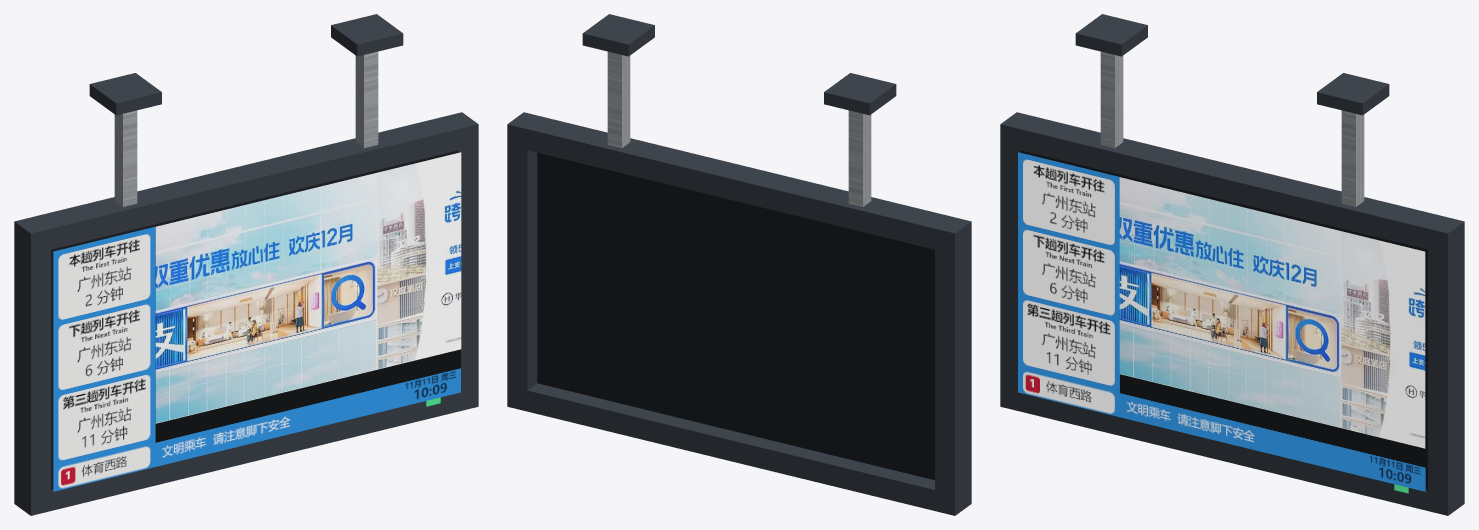
3 renders of one model, left to right at view 1: azimuth 30°, elevation 25°; view 2: azimuth 150°, elevation 25°; view 3: azimuth 330°, elevation 25°, orthographic.
Visible parts, largest first — view 1: tvContentWindow, tvDepartureBoard, darkSteel3, darkSteel4, darkSteel5, darkSteel6, steel, steel2, darkSteel2, darkSteel, black; view 2: black, darkSteel3, darkSteel4, darkSteel5, darkSteel6, steel, steel2, darkSteel2, darkSteel; view 3: tvContentWindow, tvDepartureBoard, darkSteel3, darkSteel4, darkSteel6, darkSteel5, steel2, steel, darkSteel, darkSteel2, black.
Boxes of the visible parts, x1,y1,x2,y2 form: tvContentWindow: [155, 152, 461, 423]; tvDepartureBoard: [53, 152, 460, 491]; darkSteel3: [14, 112, 478, 254]; darkSteel4: [14, 385, 478, 515]; darkSteel5: [14, 243, 50, 494]; darkSteel6: [458, 145, 478, 389]; steel: [114, 110, 137, 206]; steel2: [355, 51, 378, 147]; darkSteel2: [331, 14, 403, 56]; darkSteel: [89, 73, 161, 115]; black: [51, 150, 458, 489]; black: [537, 152, 934, 480]; darkSteel3: [507, 112, 971, 254]; darkSteel4: [507, 383, 971, 515]; darkSteel5: [935, 243, 971, 494]; darkSteel6: [507, 145, 537, 390]; steel: [848, 110, 871, 206]; steel2: [607, 51, 630, 147]; darkSteel2: [582, 14, 654, 56]; darkSteel: [824, 73, 896, 115]; tvContentWindow: [1119, 177, 1425, 448]; tvDepartureBoard: [1018, 152, 1425, 491]; darkSteel3: [1000, 112, 1464, 254]; darkSteel4: [1000, 385, 1464, 515]; darkSteel6: [1428, 243, 1464, 494]; darkSteel5: [1000, 145, 1020, 389]; steel2: [1341, 110, 1364, 206]; steel: [1100, 51, 1123, 147]; darkSteel: [1075, 14, 1147, 56]; darkSteel2: [1317, 73, 1389, 115]; black: [1020, 150, 1427, 489].
Bounding box in the file's own units: 1.56 × 1.32 × 0.16.
6 materials, 3 textured.
